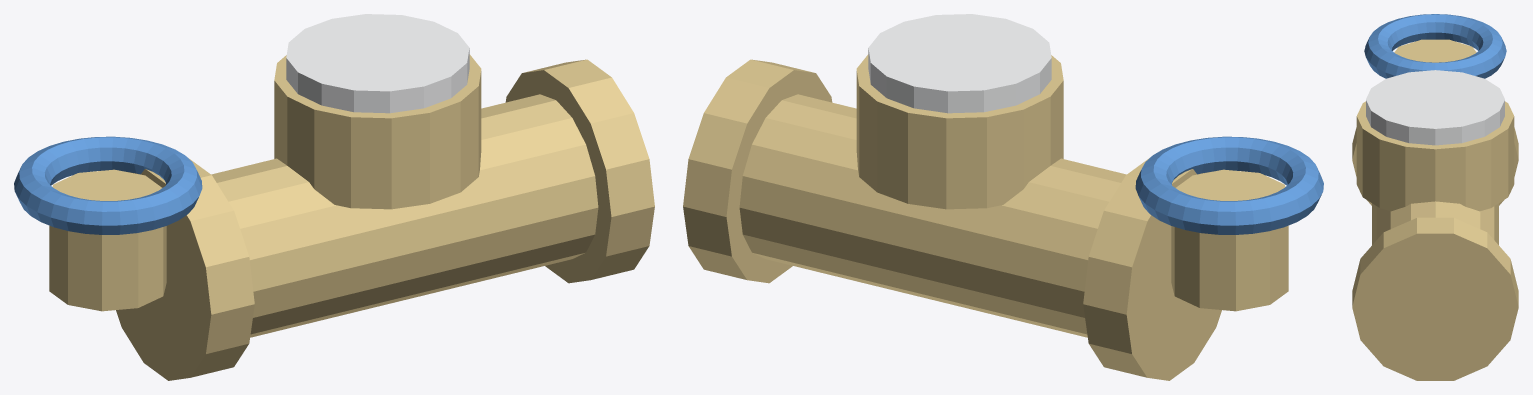
File: water-meter.glb
3 renders of one model, left to right at view 1: azimuth 30°, elevation 25°; view 2: azimuth 150°, elevation 25°; view 3: azimuth 270°, elevation 25°, orthographic. The views are drawn at different scales.
Parts seen in each view (by area): view 1: water-meter_wm-brass, water-meter_wm-dial, water-meter_wm-blue; view 2: water-meter_wm-brass, water-meter_wm-dial, water-meter_wm-blue; view 3: water-meter_wm-brass, water-meter_wm-dial, water-meter_wm-blue.
Boxes of the visible parts, left/top/right/bottom form: water-meter_wm-brass: left=49, top=54, right=654, bottom=380; water-meter_wm-dial: left=286, top=14, right=469, bottom=113; water-meter_wm-blue: left=14, top=136, right=202, bottom=234; water-meter_wm-brass: left=683, top=54, right=1288, bottom=380; water-meter_wm-dial: left=868, top=14, right=1051, bottom=113; water-meter_wm-blue: left=1135, top=136, right=1323, bottom=234; water-meter_wm-brass: left=1352, top=39, right=1518, bottom=380; water-meter_wm-dial: left=1366, top=70, right=1504, bottom=145; water-meter_wm-blue: left=1364, top=14, right=1506, bottom=78.
Size of the model in its own units: 0.3295 by 0.1456 by 0.11.
